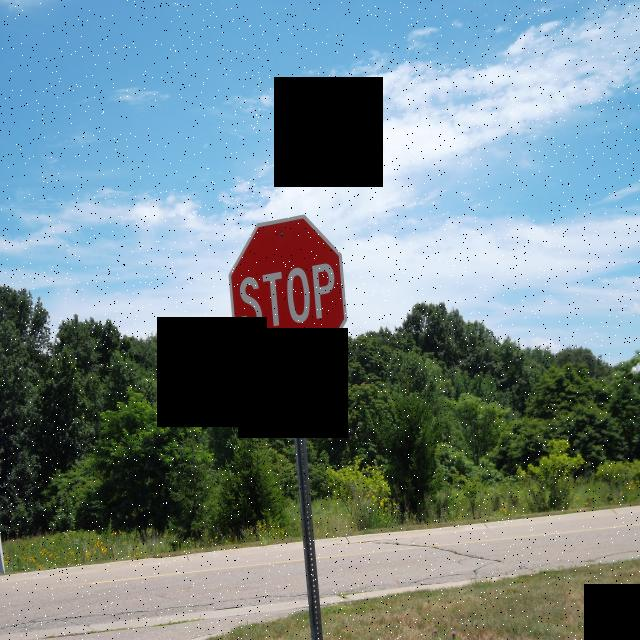stop: (224, 208, 352, 384)
